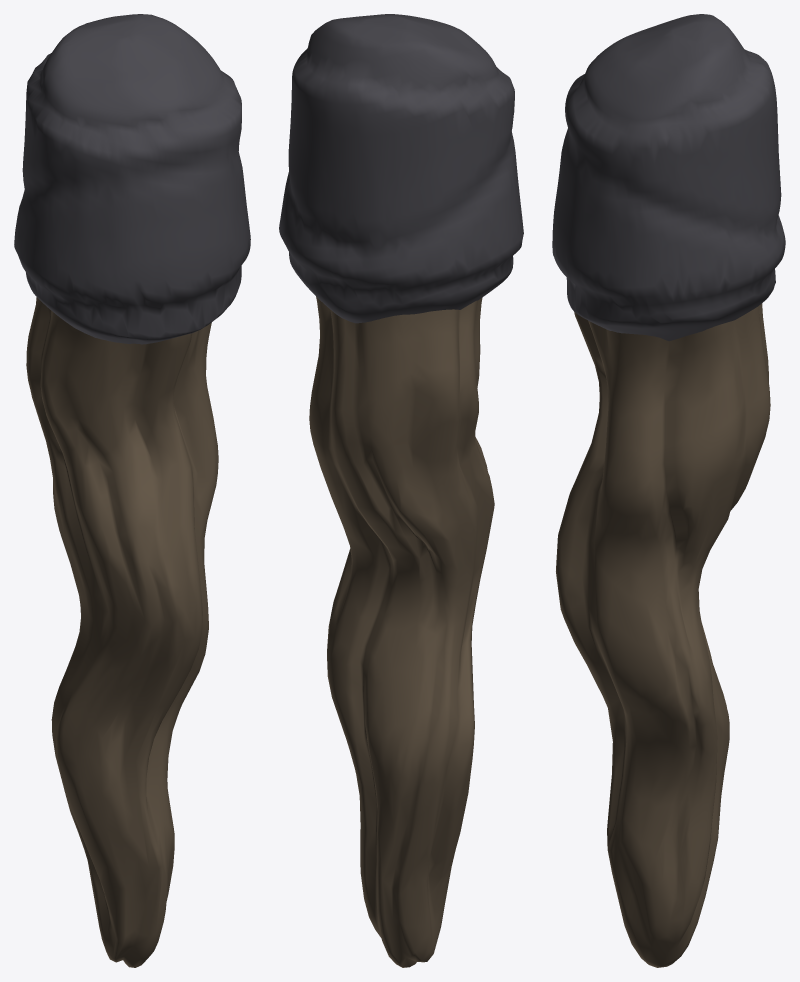
The model's file is Torch.fbx.
The picture shows the model from 3 angles, left to right: view 1: azimuth 30°, elevation 25°; view 2: azimuth 150°, elevation 25°; view 3: azimuth 270°, elevation 25°; orthographic projection. The views are drawn at different scales.
Parts seen in each view (by area): view 1: PM3D_Sphere3D1; view 2: PM3D_Sphere3D1; view 3: PM3D_Sphere3D1.
Part boxes in pixels (x1=…): PM3D_Sphere3D1: x1=14, y1=14, x2=250, y2=967; PM3D_Sphere3D1: x1=279, y1=14, x2=523, y2=967; PM3D_Sphere3D1: x1=552, y1=14, x2=785, y2=967.
Size of the model in its own units: 180 by 767 by 173.
